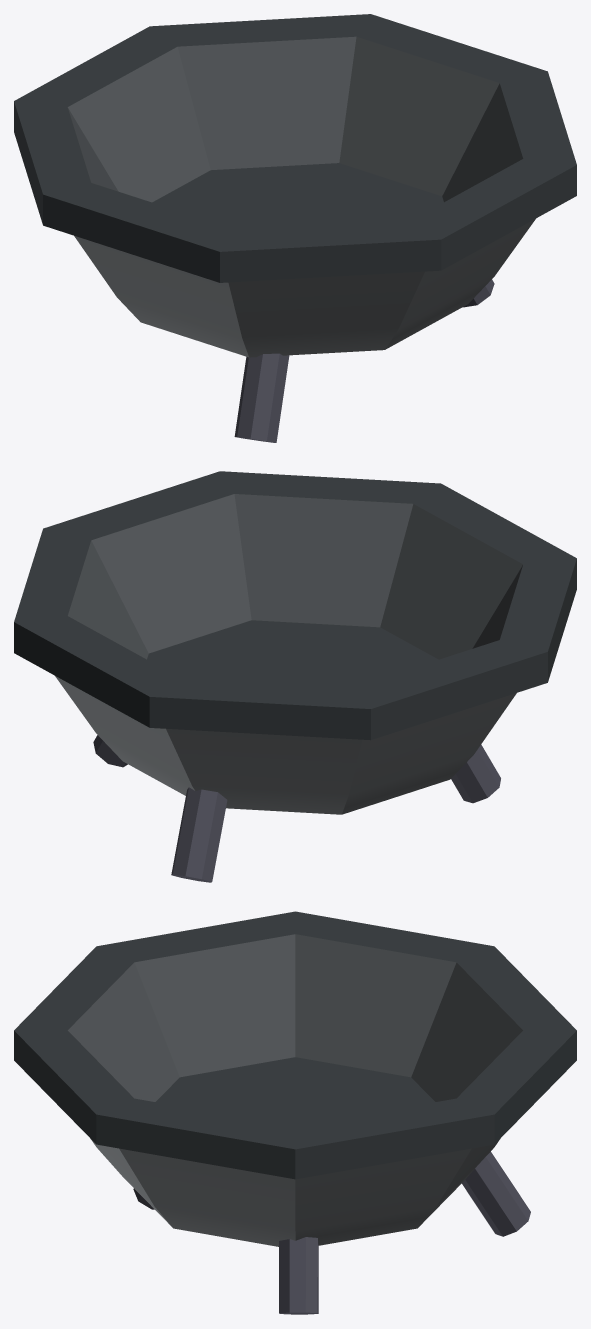
Rendered from braizer.fbx.
The picture shows the model from 3 angles, top to bottom: view 1: azimuth 30°, elevation 25°; view 2: azimuth 150°, elevation 25°; view 3: azimuth 270°, elevation 25°; orthographic projection. The views are drawn at different scales.
Parts seen in each view (by area): view 1: braiser; view 2: braiser; view 3: braiser.
Part boxes in pixels (box(x1,y1,x2,y2)): braiser: box(14, 14, 576, 442); braiser: box(14, 471, 576, 882); braiser: box(14, 911, 576, 1314).
Bounding box in the file's own units: 2.2 × 0.9772 × 2.2.
